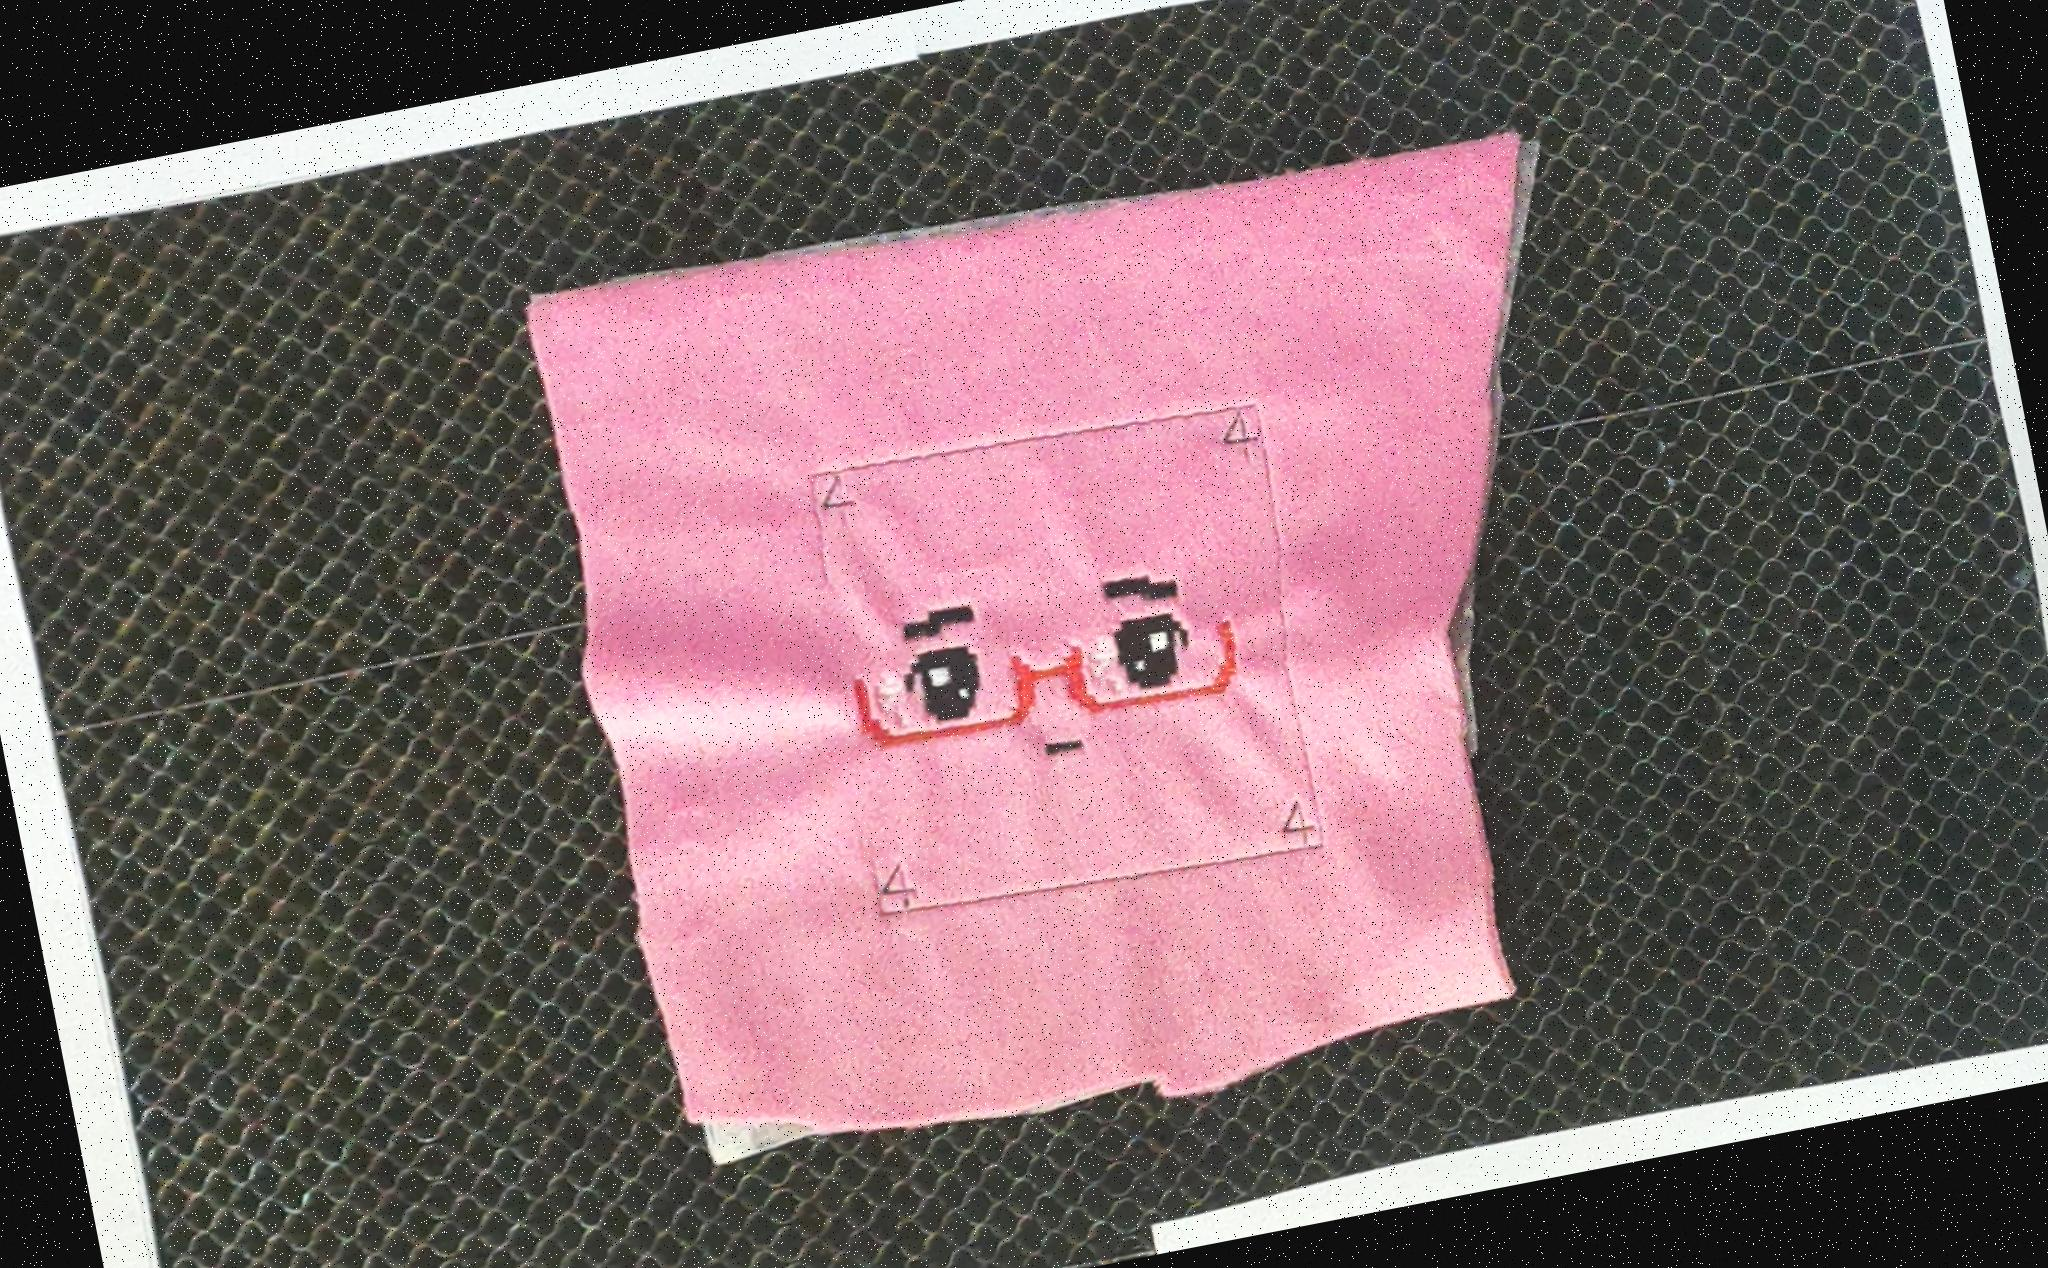objects: (473, 61, 1723, 1212)
